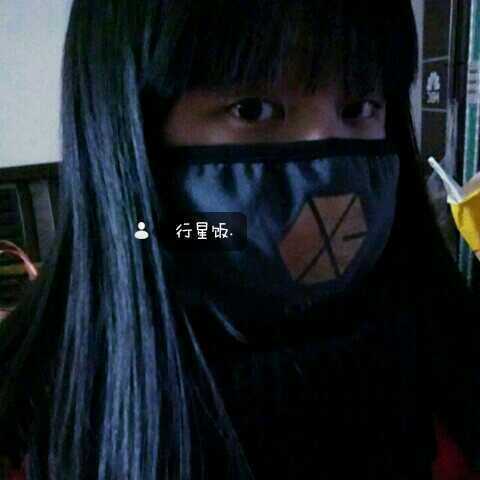face_mask: (171, 9, 403, 283)
